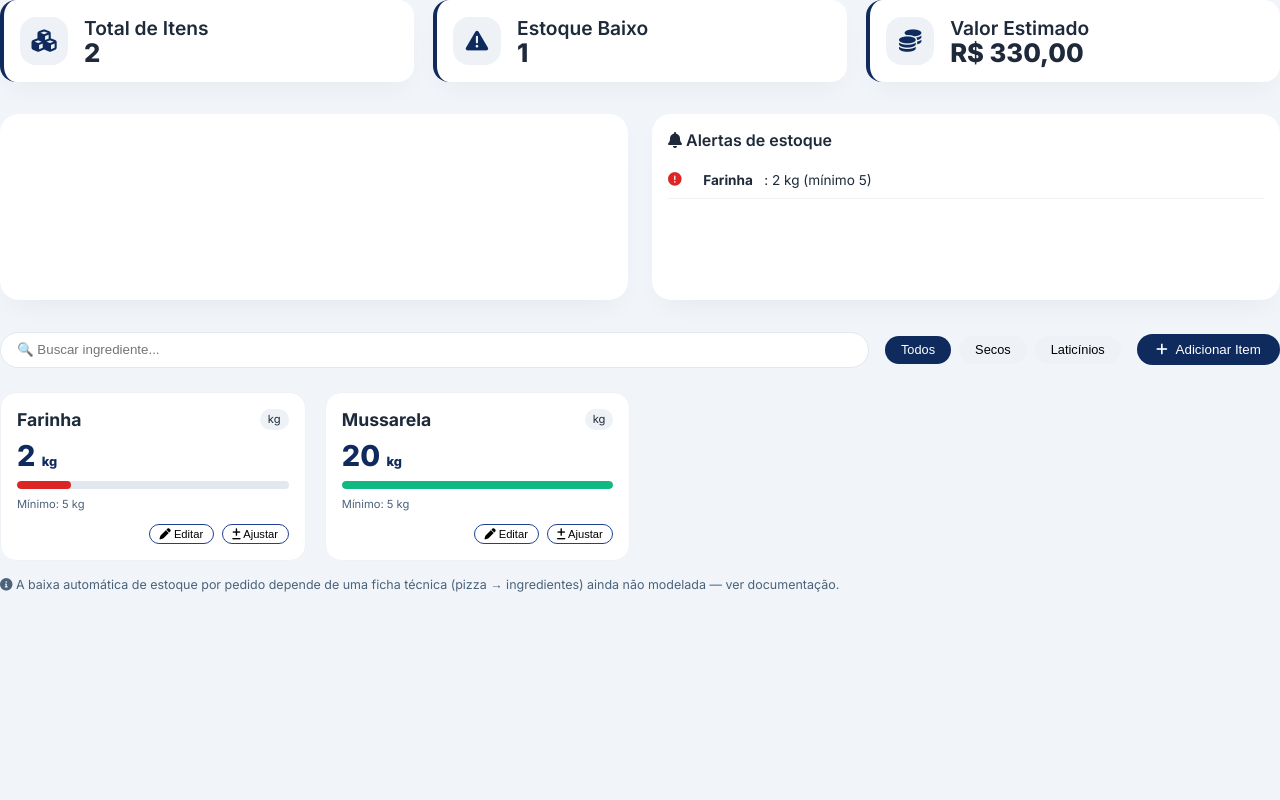
it: StockSection (painel admin — estoque) › editar ingrediente com falha do backend: mostra o erro e mantém o modal aberto, sem alterar a lista
This screenshot has width=1280, height=800.
Click the 1st button "Editar": (181, 534) [149,524,214,544]
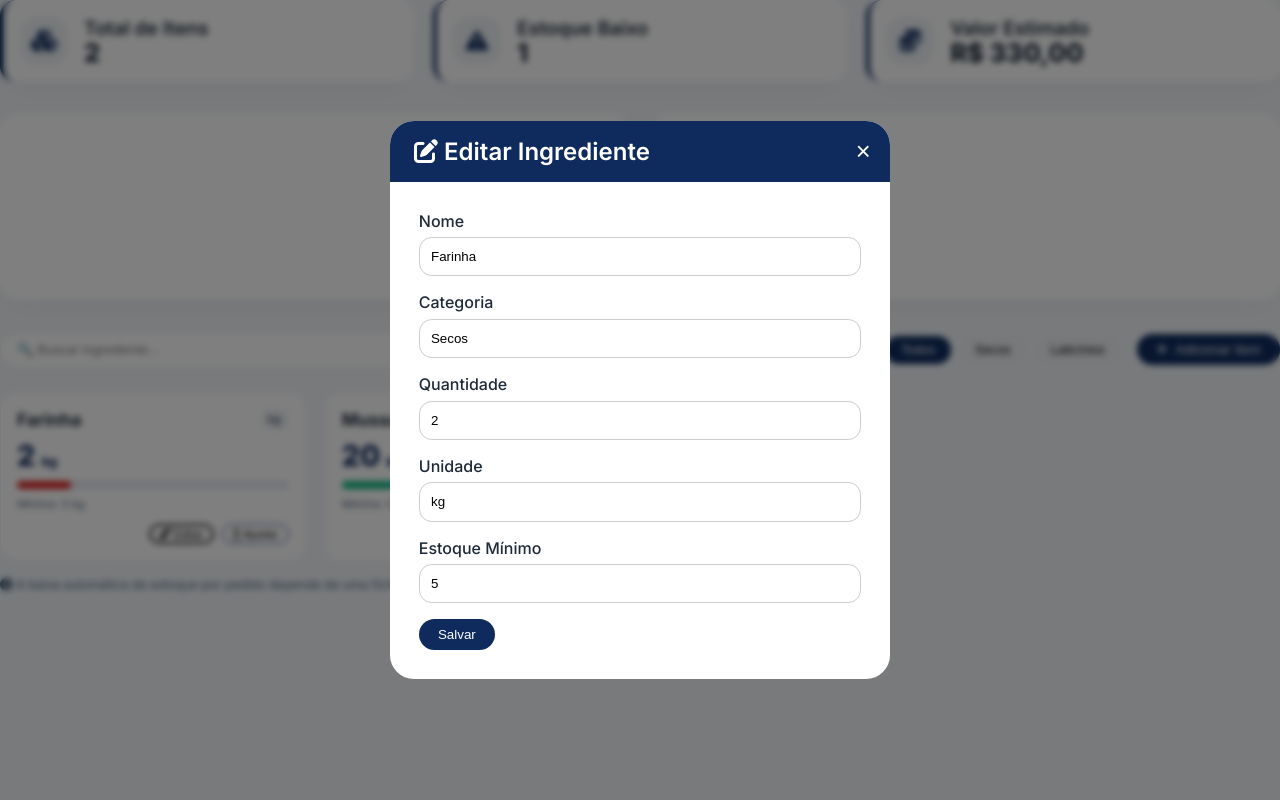
Replace the text in the field labelled "Nome" with "Farinha de Trigo": (640, 257) [419,237,861,276]
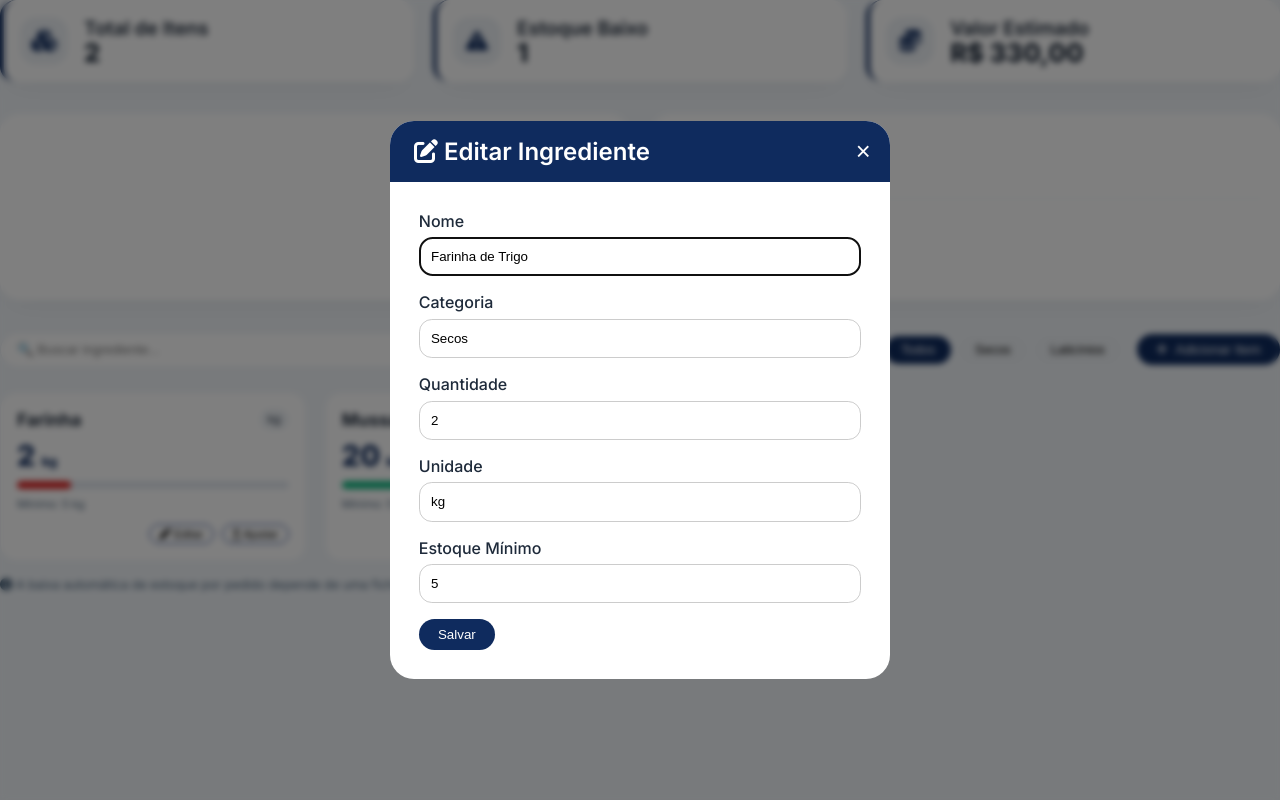
Click the button "Salvar": (457, 635) [419,619,495,650]
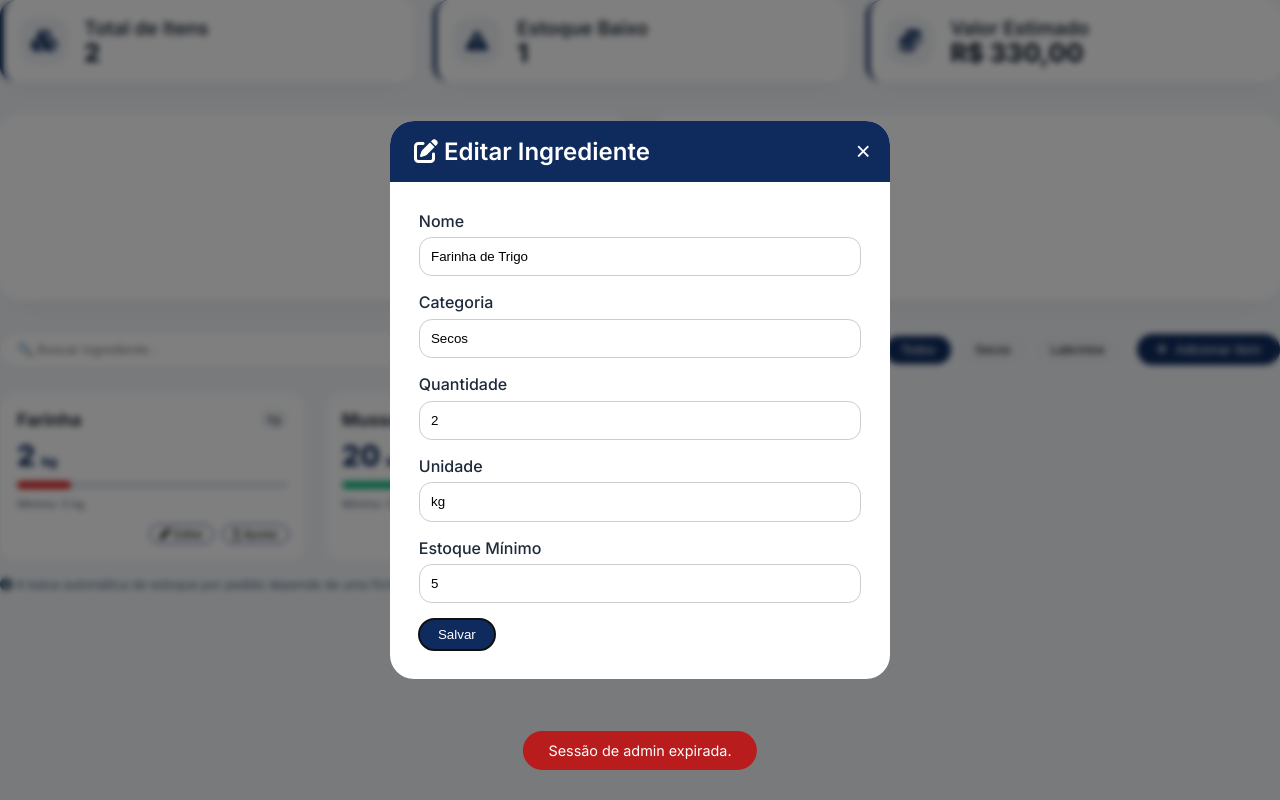
expect the text "Farinha" is shown: met, box [17,409,81,430]
expect the text "Sessão de admin expirada." is shown: met, box [523,731,757,770]
